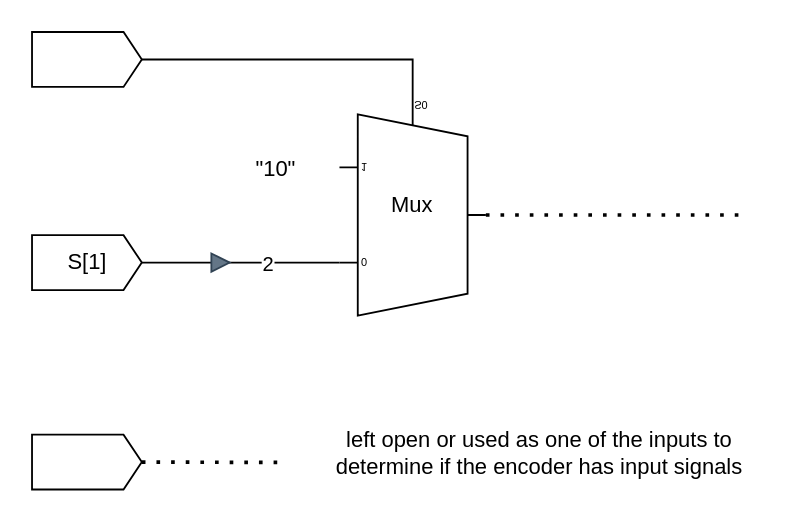
The diagram is 800 pixels wide and 522 high, and some of its shapes have lost their labels. Each missing label, with the centre of its shape:
"S[0]" goes at point 86,461.
"S[2]" goes at point 86,58.
